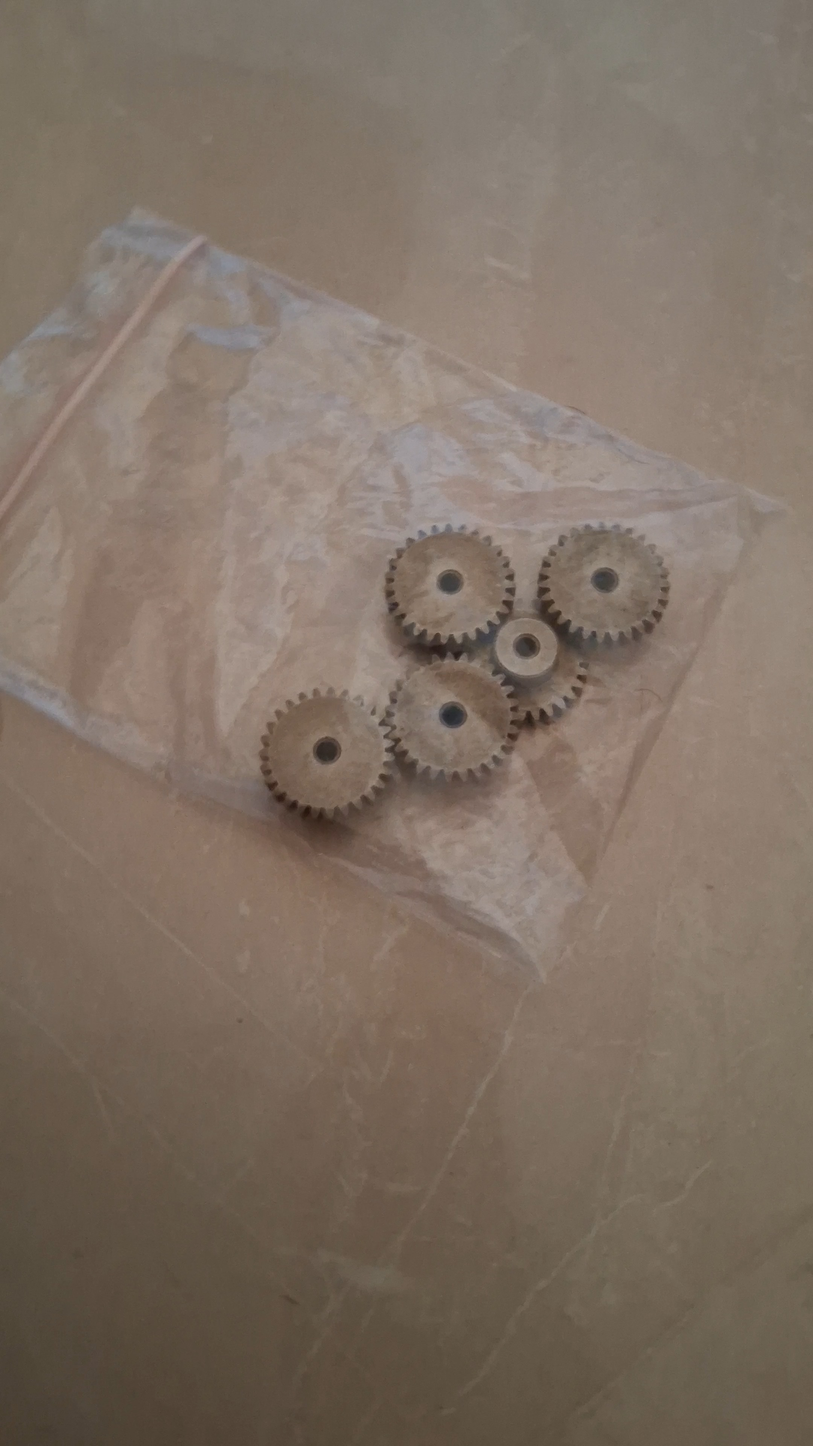spur gear: (260, 689, 393, 819), (385, 524, 515, 647), (387, 657, 518, 779), (539, 523, 668, 643), (493, 615, 587, 724)
